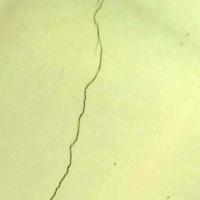crack: (49, 1, 107, 199)
